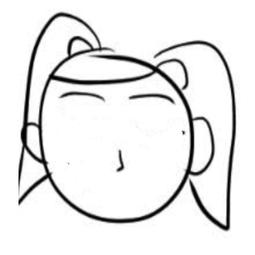ear: (186, 114, 222, 180), (20, 121, 46, 166)
eyebrow: (56, 88, 110, 104), (124, 91, 175, 104)
pointy_nose: (113, 149, 131, 176)
